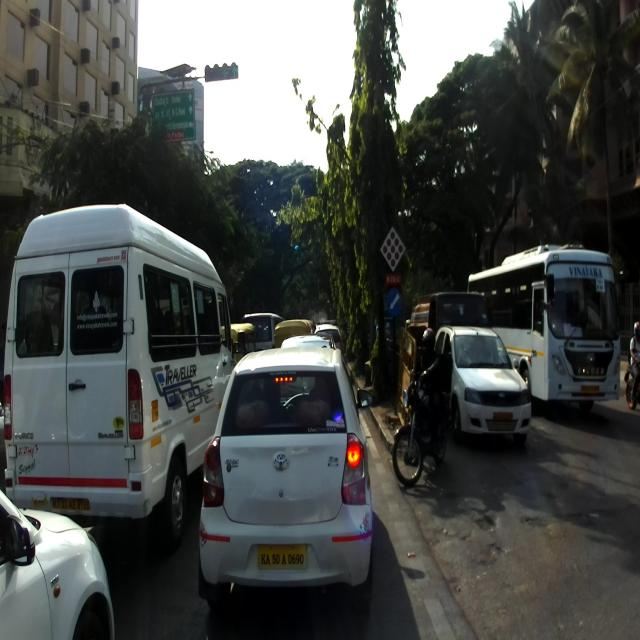autorickshaw: (274, 318, 314, 349), (228, 322, 258, 361)
bus: (468, 244, 624, 411)
car: (198, 346, 372, 614), (0, 489, 116, 638), (432, 324, 530, 445), (280, 334, 348, 365), (242, 312, 284, 348), (315, 320, 344, 354)
mini-bus: (5, 202, 244, 548)
motorcycle: (391, 370, 451, 487), (624, 348, 640, 409)
